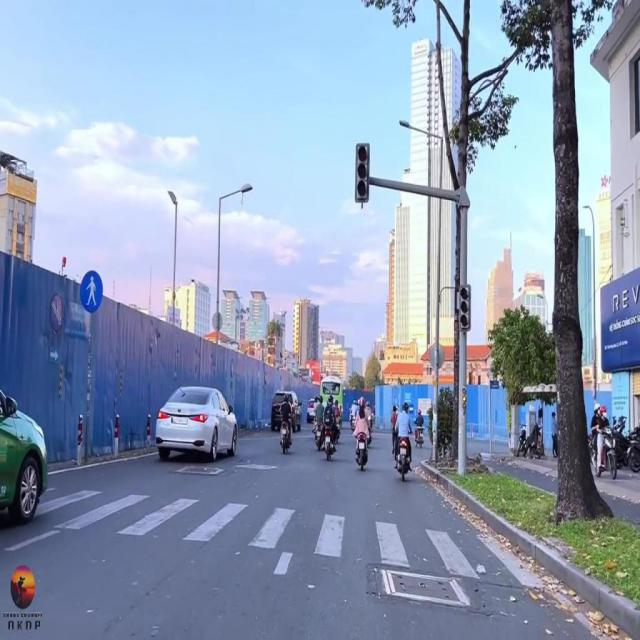duong_cho_nguoi_di_bo: (80, 269, 104, 313)
